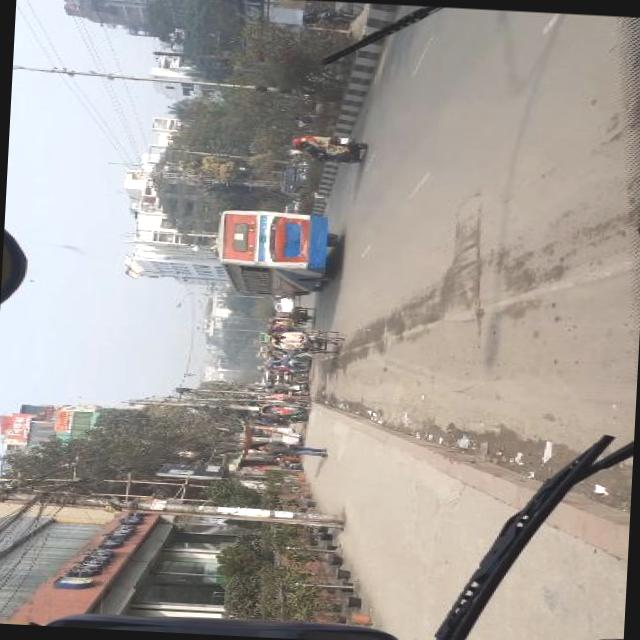bus: (210, 208, 335, 300), (256, 332, 266, 347), (253, 352, 265, 359), (257, 346, 266, 353), (254, 366, 262, 373)
car: (276, 158, 310, 200), (286, 308, 312, 326)
motorcycle: (290, 133, 366, 166), (298, 2, 361, 38), (266, 327, 342, 355), (255, 391, 317, 425), (265, 325, 304, 335), (265, 293, 297, 303), (265, 355, 284, 367)
